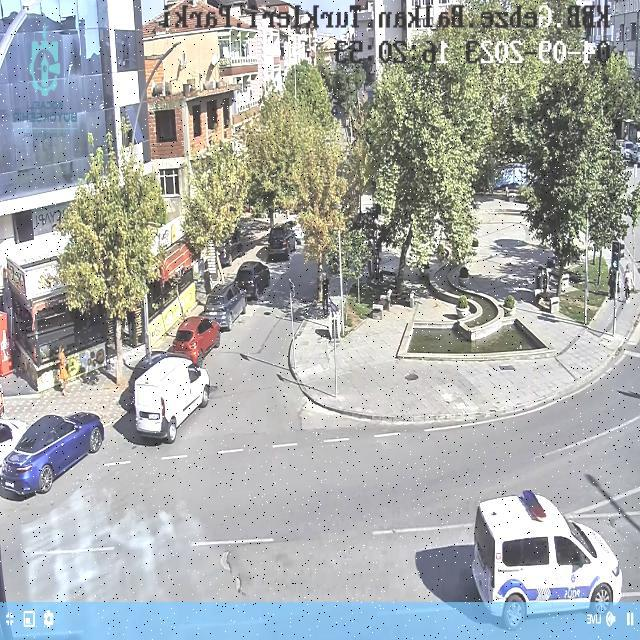car: (472, 491, 622, 623), (0, 415, 104, 495), (134, 352, 210, 442), (170, 316, 220, 366), (201, 282, 246, 329), (235, 261, 270, 299), (268, 224, 296, 261)
